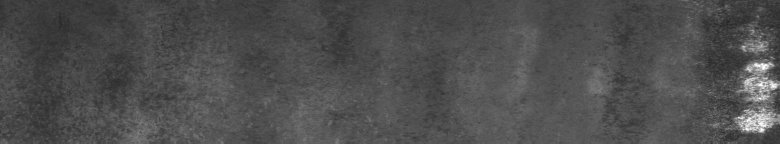kb: (710, 5, 776, 136)
